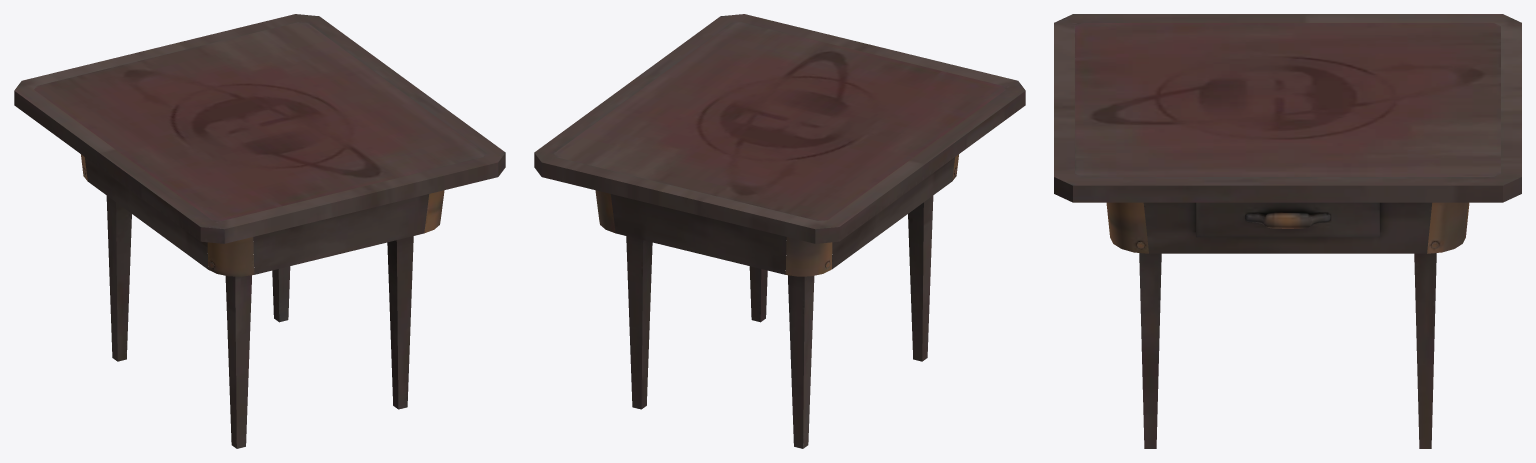
3 renders of one model, left to right at view 1: azimuth 30°, elevation 25°; view 2: azimuth 150°, elevation 25°; view 3: azimuth 270°, elevation 25°, orthographic. The views are drawn at different scales.
Visible parts, largest first — view 1: body0_model0_lod0_mesh1, body0_model0_lod0_mesh0; view 2: body0_model0_lod0_mesh1, body0_model0_lod0_mesh0; view 3: body0_model0_lod0_mesh1, body0_model0_lod0_mesh0.
Boxes of the visible parts, x1=… form: body0_model0_lod0_mesh1: x1=14, y1=14, x2=505, y2=448; body0_model0_lod0_mesh0: x1=81, y1=154, x2=444, y2=276; body0_model0_lod0_mesh1: x1=534, y1=14, x2=1025, y2=448; body0_model0_lod0_mesh0: x1=595, y1=154, x2=958, y2=276; body0_model0_lod0_mesh1: x1=1054, y1=14, x2=1521, y2=448; body0_model0_lod0_mesh0: x1=1106, y1=202, x2=1469, y2=253.
Size of the model in its own units: 38.49 by 31.44 by 44.29.
2 materials, 2 textured.
